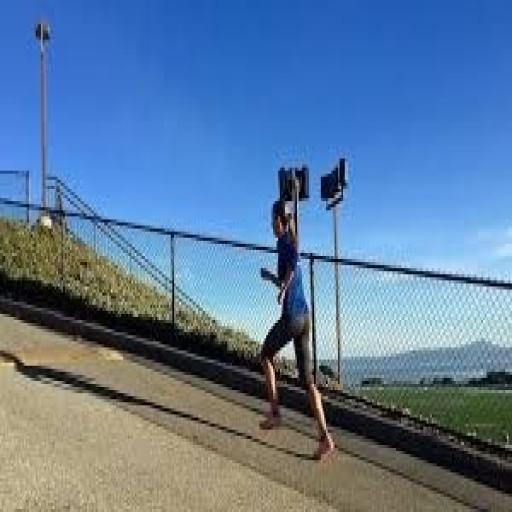running: (254, 192, 338, 463)
